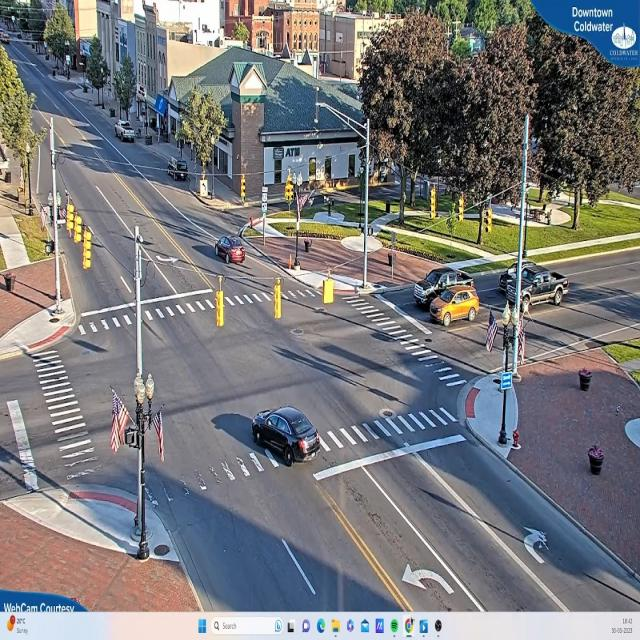car: (252, 407, 322, 467), (516, 266, 566, 311), (432, 287, 479, 324), (414, 267, 449, 305), (214, 235, 245, 264), (164, 158, 188, 180), (115, 122, 136, 143)
